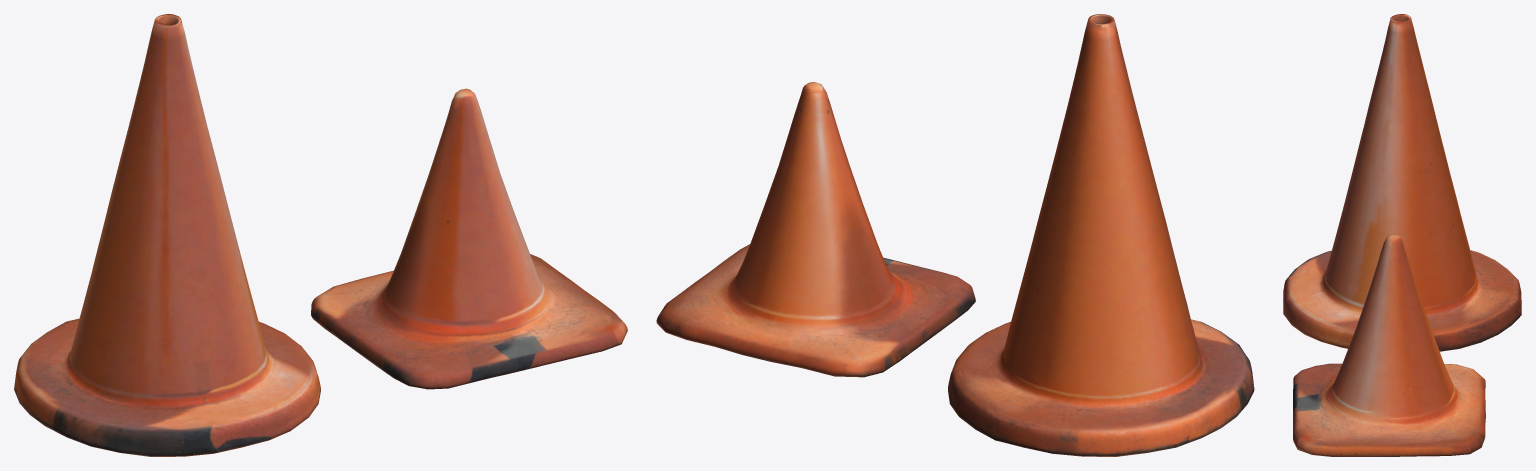
3 renders of one model, left to right at view 1: azimuth 30°, elevation 25°; view 2: azimuth 150°, elevation 25°; view 3: azimuth 270°, elevation 25°, orthographic. The views are drawn at different scales.
Size of the model in its own units: 1.99 by 1.32 by 0.9919.
Materials: 1 (1 with a texture image).
